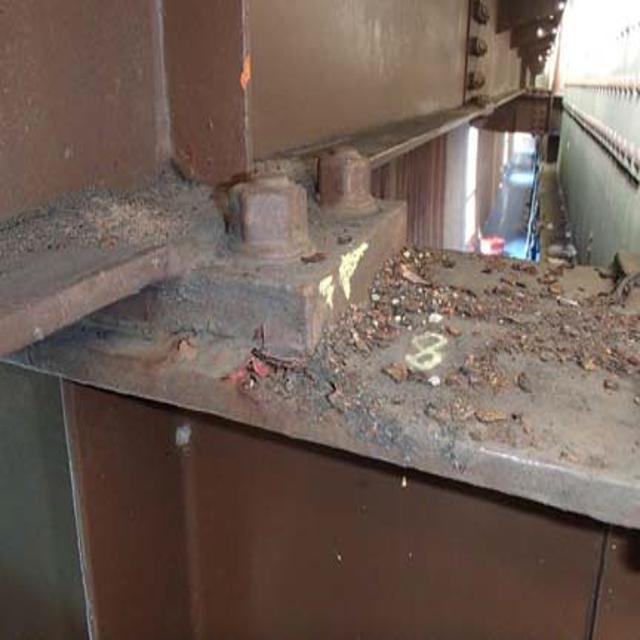corrosion: (134, 111, 413, 420)
